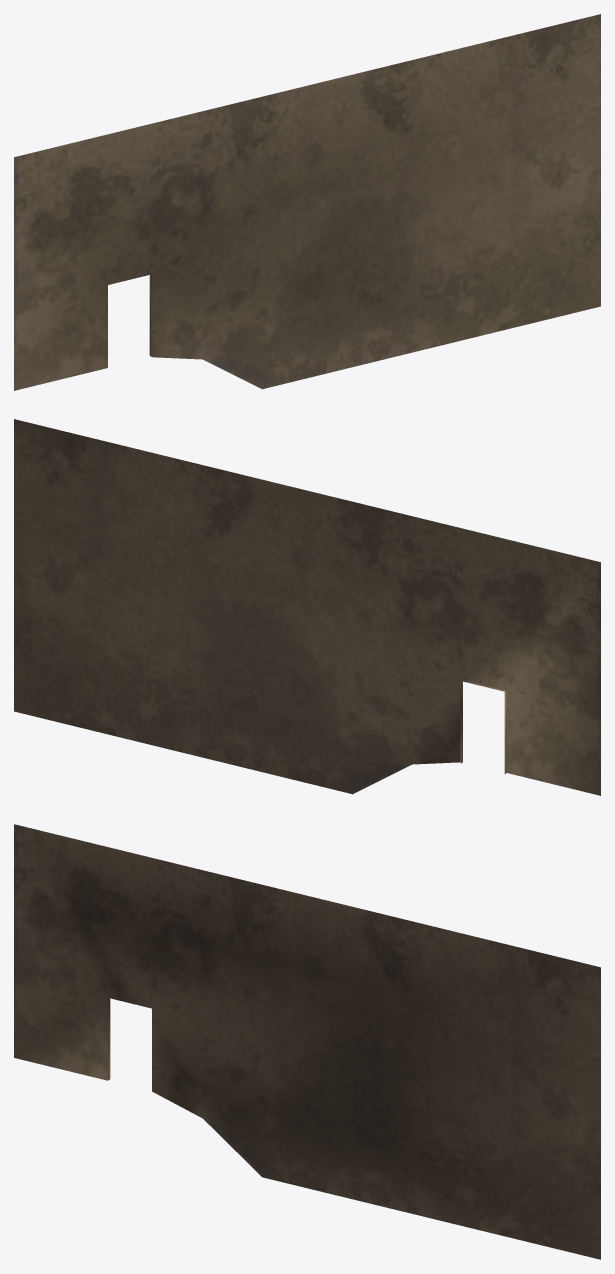
File: Direita I.fbx
3 views of the same model, one above another, from view 1: azimuth 30°, elevation 25°; view 2: azimuth 150°, elevation 25°; view 3: azimuth 330°, elevation 25° (orthographic).
Parts seen in each view (by area): view 1: Direita I; view 2: Direita I; view 3: Direita I.
Boxes of the visible parts, x1,y1,x2,y2 form: Direita I: (14, 14, 600, 390); Direita I: (14, 419, 600, 795); Direita I: (14, 824, 600, 1259).
Size of the model in its own units: 1567 by 747 by 10.38.
